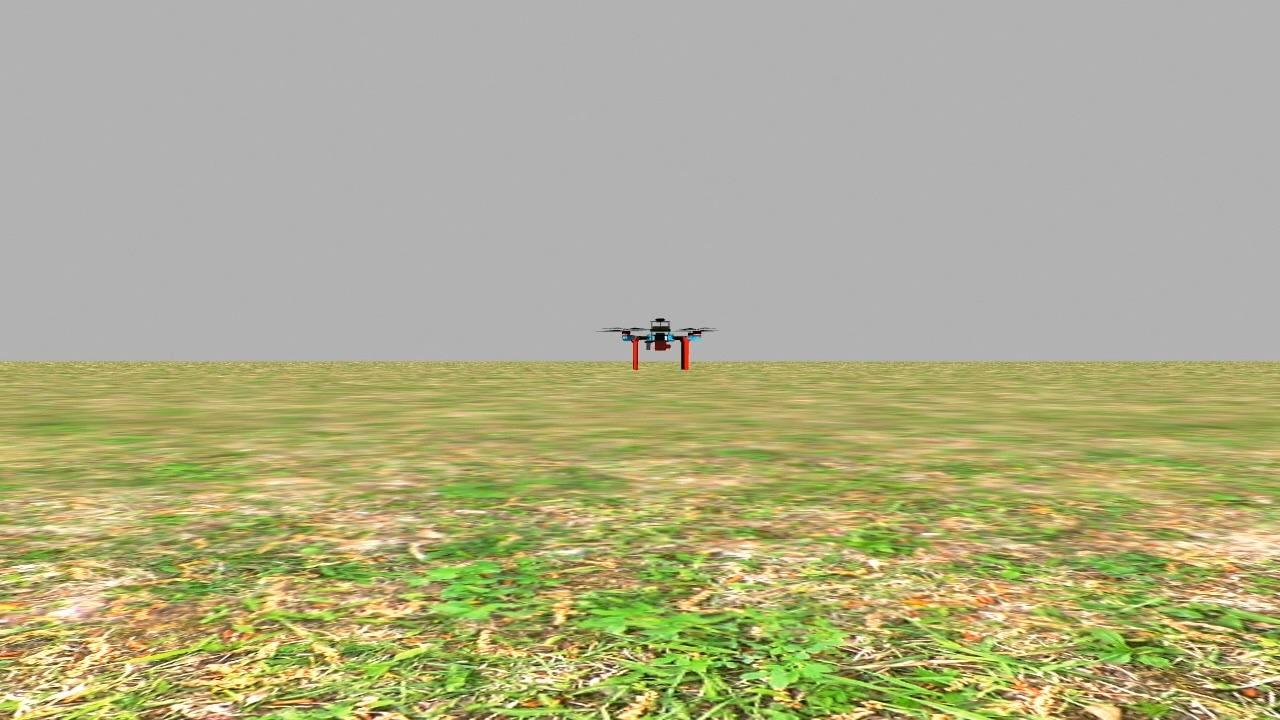UAV: (601, 308, 722, 382)
